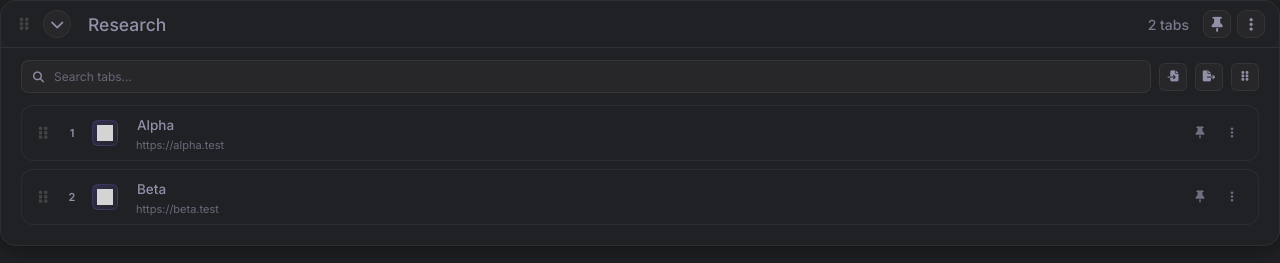
Test: CollectionCard › filters its tabs from the per-collection search box
The image size is (1280, 263).
Expected: the 2nd field showing "Alpha" is shown, [130,114,1174,136]
Expected: the 3rd field showing "Beta" is shown, [130,178,1174,200]
Step 1. Type "alpha" into the field with placeholder "Search tabs…" → (586, 76), box [21,60,1151,93]
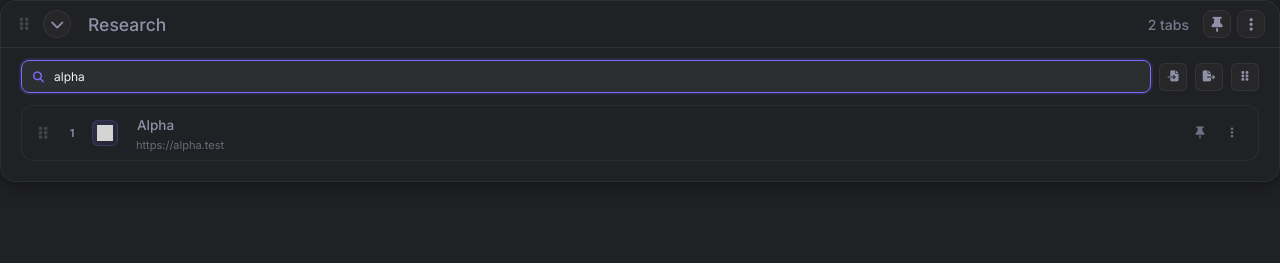
Expected: the 3rd field showing "Alpha" is shown, [130,114,1174,136]
Expected: the text showing "Beta" is gone
